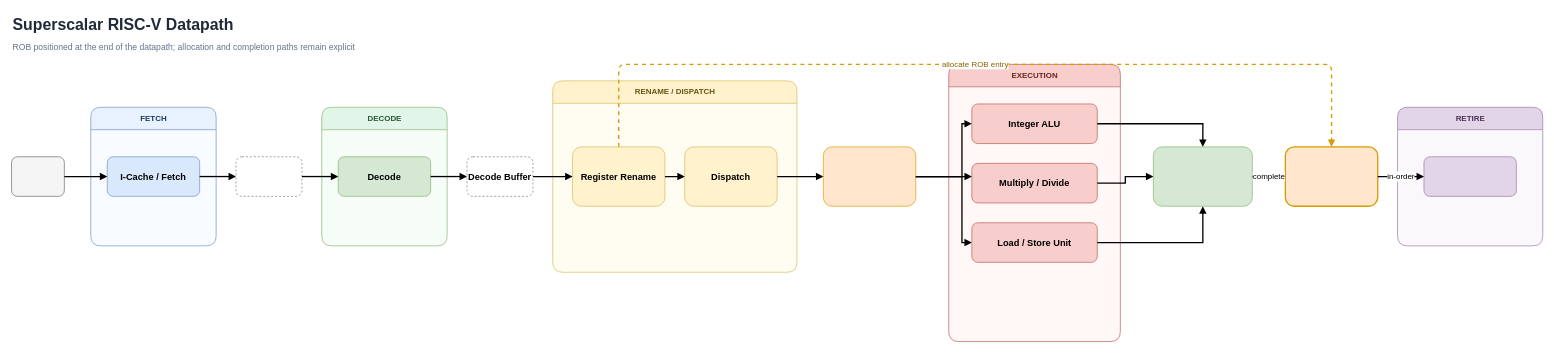
The diagram is 1554 pixels wide and 353 high, and some of its shapes have lost their labels. Here are the shapes that lost their labels. From the top down, the centre of each, then its label:
[37,176]: PC
[268,176]: Fetch Buffer
[869,176]: Reservation Stations
[1202,176]: Writeback / Completion
[1331,176]: Reorder Buffer (ROB)
[1469,176]: Commit
